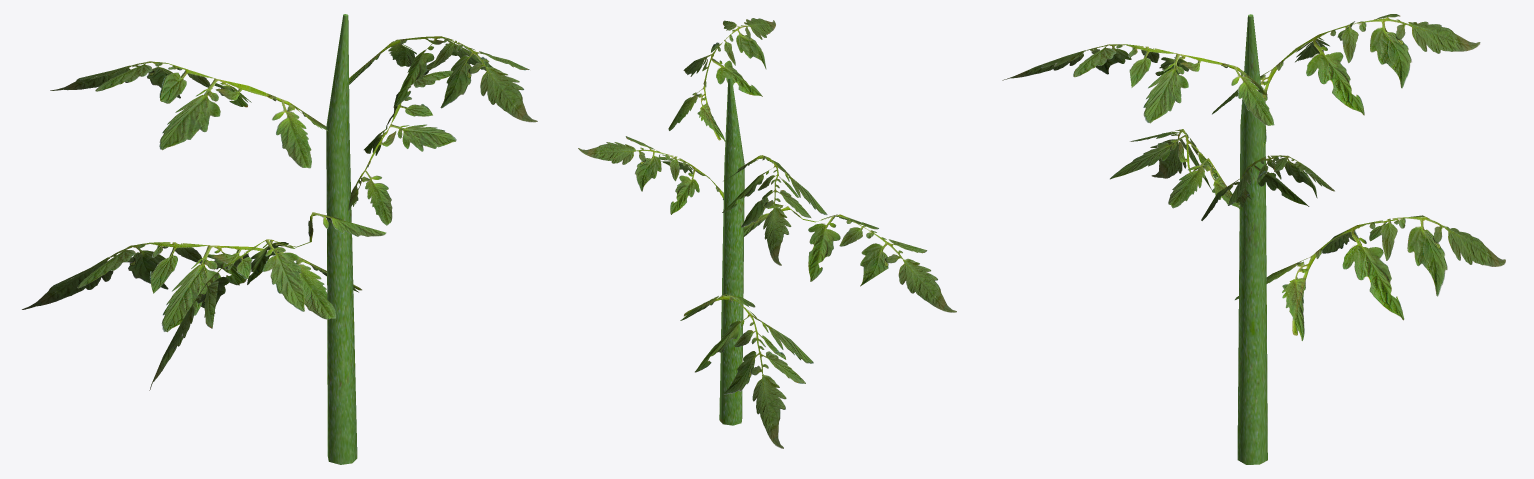
File: tometo tree.fbx
3 views of the same model, side by side, from view 1: azimuth 30°, elevation 25°; view 2: azimuth 150°, elevation 25°; view 3: azimuth 270°, elevation 25° (orthographic). The views are drawn at different scales.
Visible parts, largest first — view 1: Tomato_tree1; view 2: Tomato_tree1; view 3: Tomato_tree1.
Part boxes in pixels (x1,y1,x2,y2): Tomato_tree1: (22, 14, 537, 464); Tomato_tree1: (578, 18, 956, 448); Tomato_tree1: (1002, 14, 1505, 464).
Bounding box in the file's own units: 44.81 × 45.91 × 49.63.
Materials: 1 (1 with a texture image).
